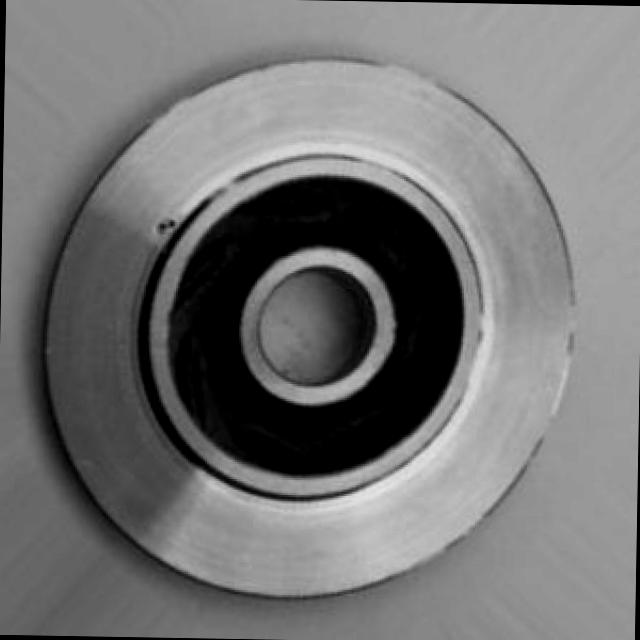Defect: (134, 204, 198, 248)
